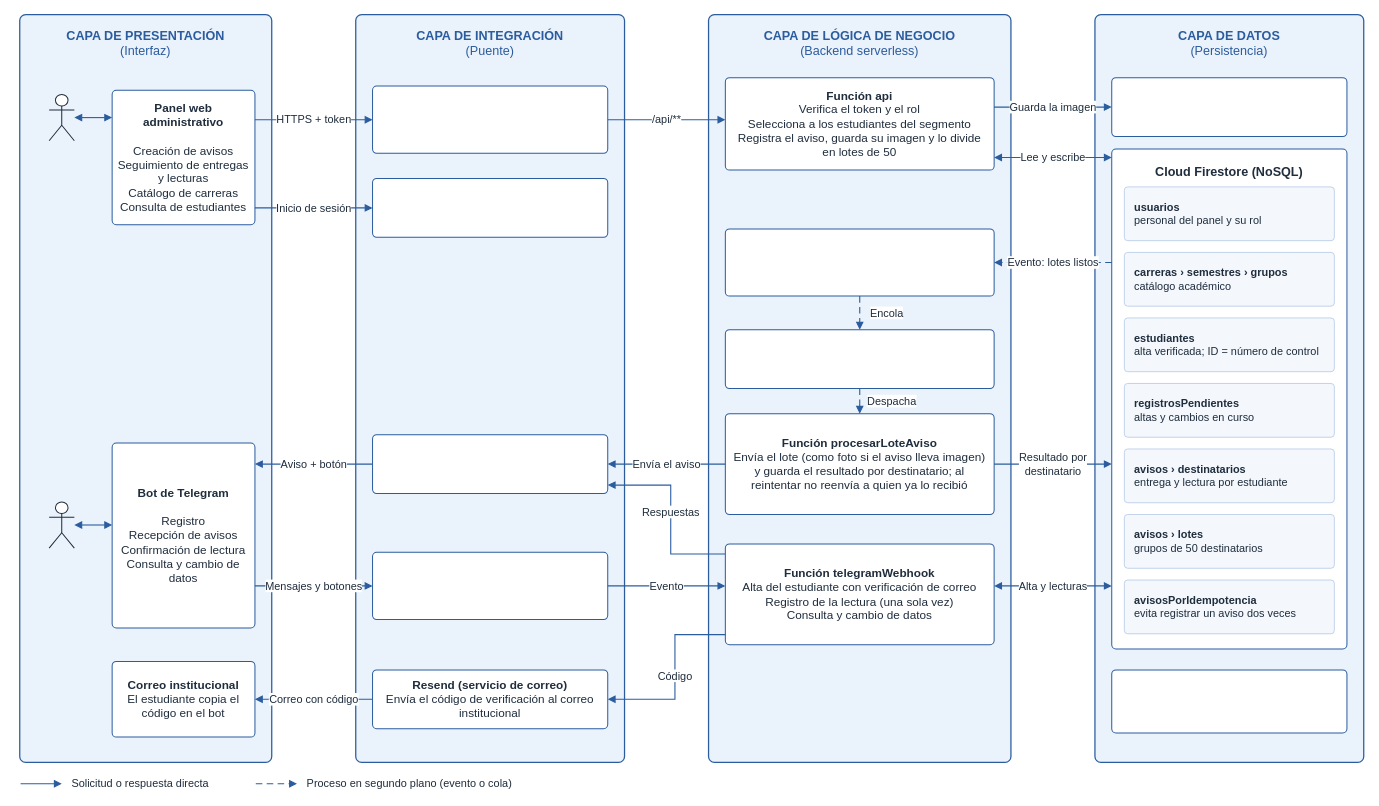
Some shapes in this 1379 by 806 pixel diagram are drawn without their labels. Here are the shapes that lost their labels. From the top down, the centre of each, then its label:
pixel 61 117: Administrador o coordinador
pixel 490 119: Firebase Hosting Publica el panel y reescribe /api/** hacia la función api
pixel 1229 107: Cloud Storage Imagen de cada aviso
pixel 490 207: Firebase Authentication Inicio de sesión del personal y emisión del token de ID
pixel 859 262: Función encolarLoteAviso Disparador de Firestore: encola los lotes
pixel 859 359: Google Cloud Tasks Cola de envío: 5 lotes a la vez, hasta 5 intentos
pixel 490 464: Telegram Bot API Envía mensajes y botones al estudiante
pixel 61 524: Estudiante
pixel 490 585: Webhook de Telegram Recibe los eventos del bot y valida el encabezado secreto
pixel 1229 701: Secret Manager Token del bot, secreto del webhook y clave de Resend
